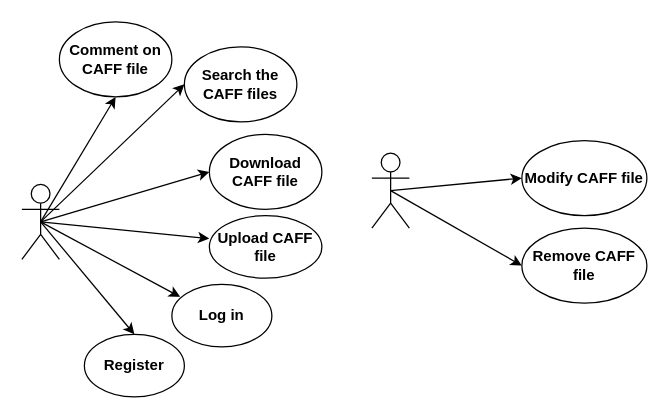
Image size: 669x419. Some labels were removed from this diagram. The centre of each missing label's shape, as x and y in pixels:
Administrator: (x=390, y=190)
User: (x=40, y=221)
